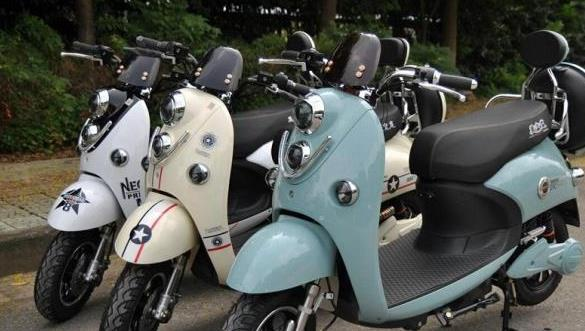non-vehicle: (233, 55, 584, 331), (110, 47, 245, 331), (30, 40, 151, 324)
